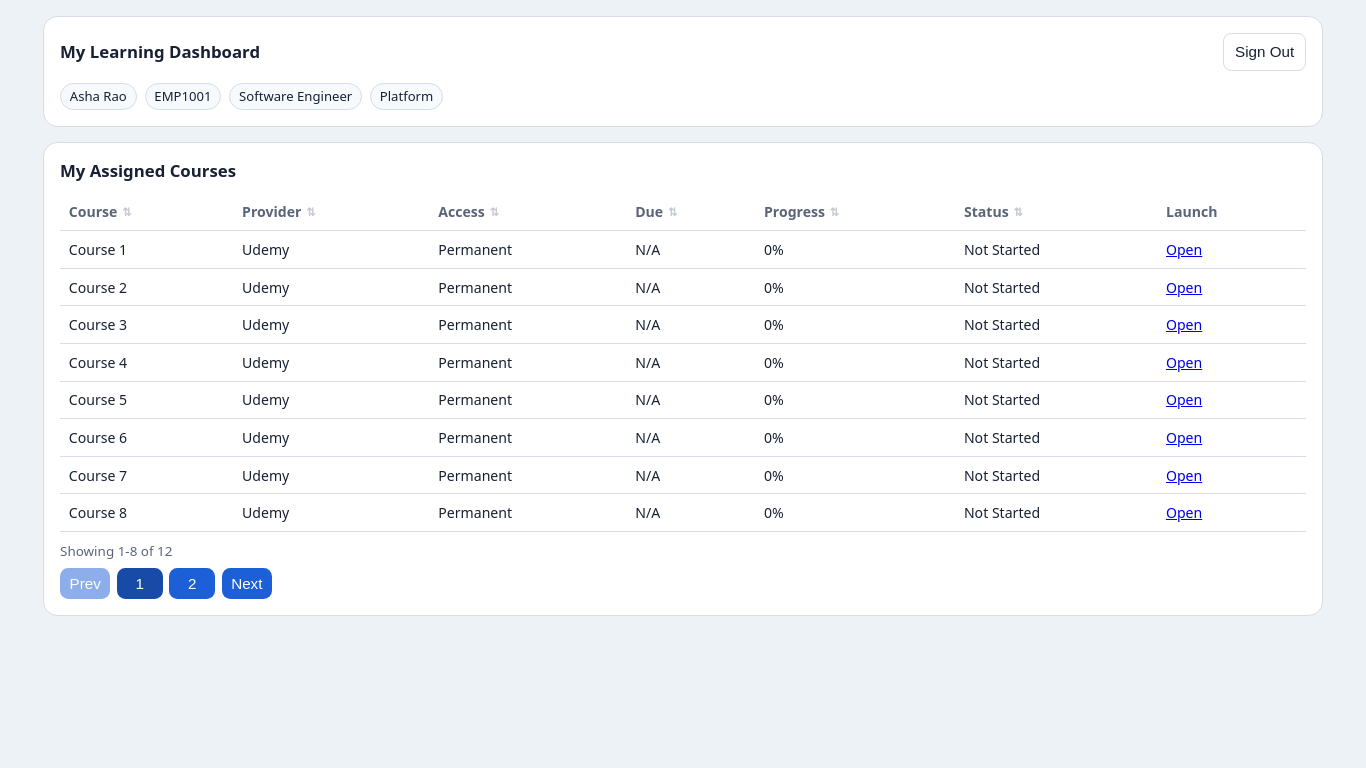
Test: LearnerSelfService › loads and shows the learner profile and their own paginated assignments only
Expected: the text "Asha Rao" is shown, [60,82,137,110]
Expected: the text "EMP1001" is shown, [145,82,221,110]
What coordinates should you click on to do the following:
click the button "Next"
I would click on:
 (247, 584)
Its box is [222,568,272,599].
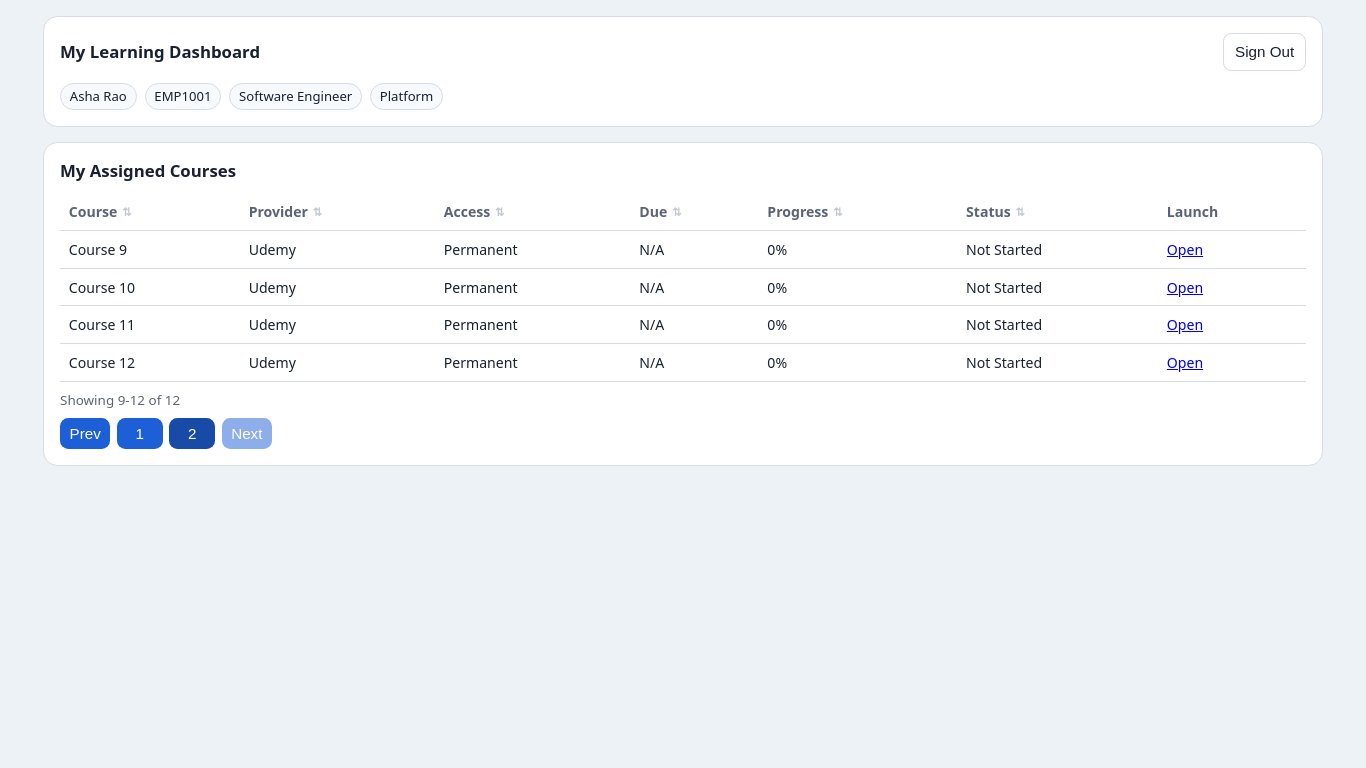
Now the text "Course 9" is shown, box [60,231,240,268]
